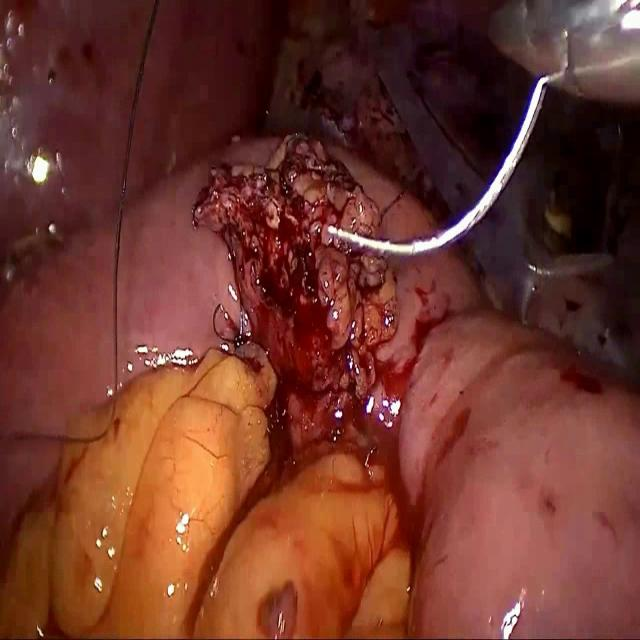surgical-tool: (486, 0, 640, 103)
